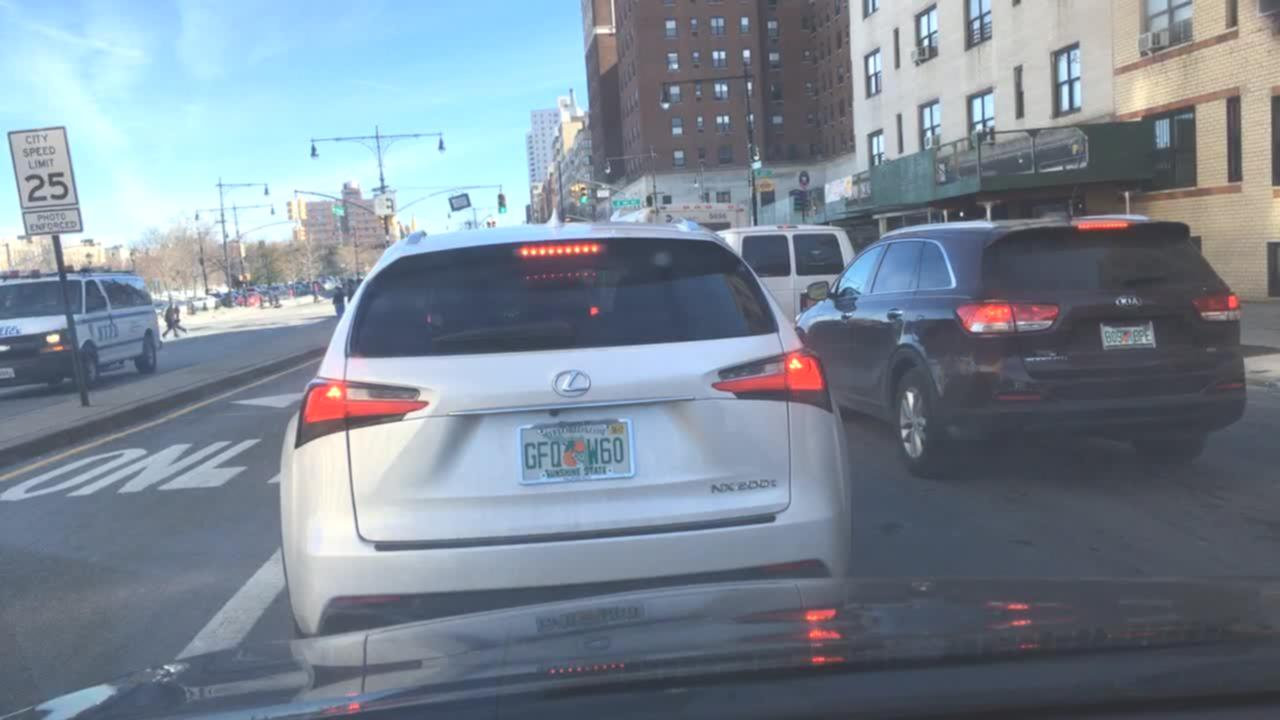kia: (1104, 288, 1150, 317)
lexus: (544, 364, 594, 406)
